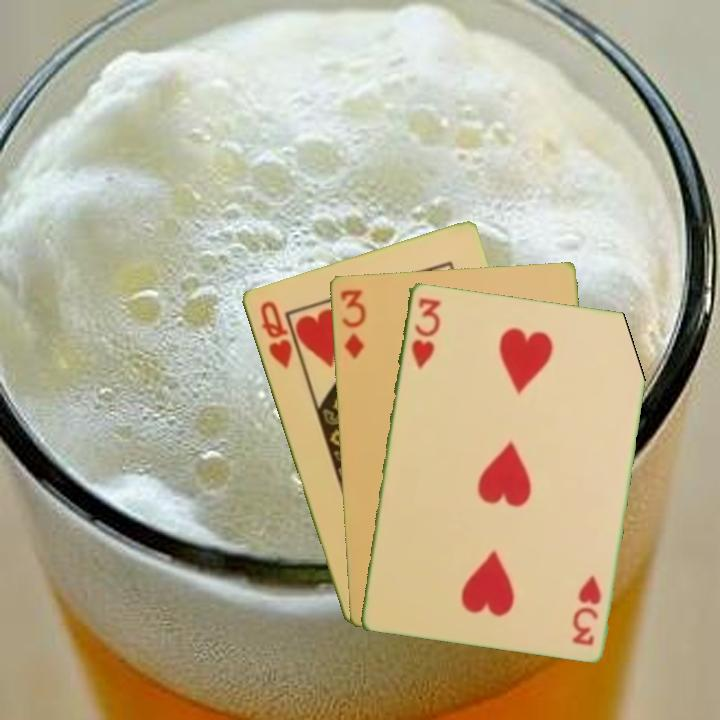3d: (336, 285, 368, 361)
3h: (407, 294, 443, 371), (568, 571, 604, 648)
Qh: (256, 297, 295, 371)
